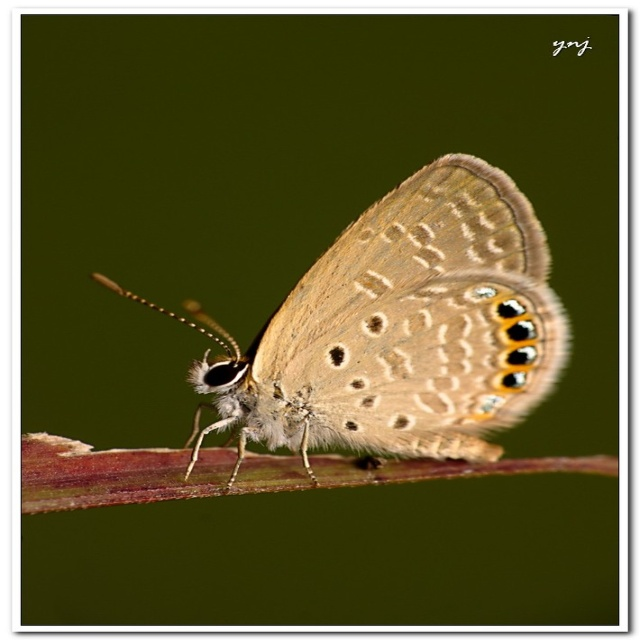Butterfly: (103, 138, 550, 505)
